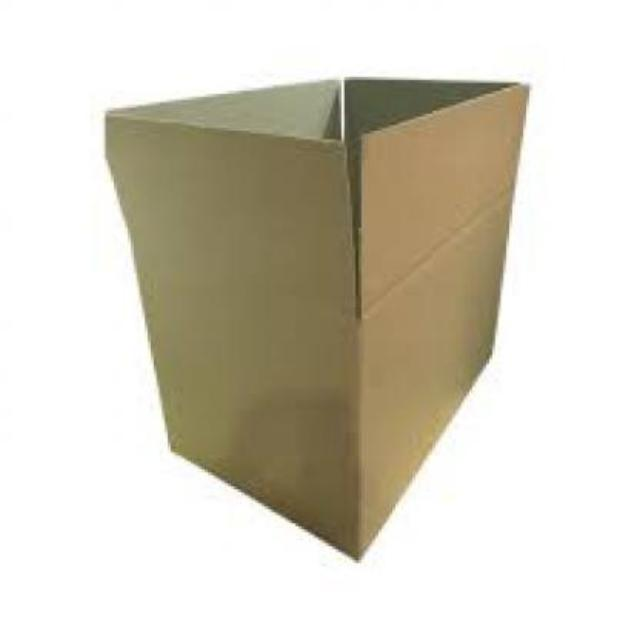cardboard_box: (103, 70, 539, 570)
